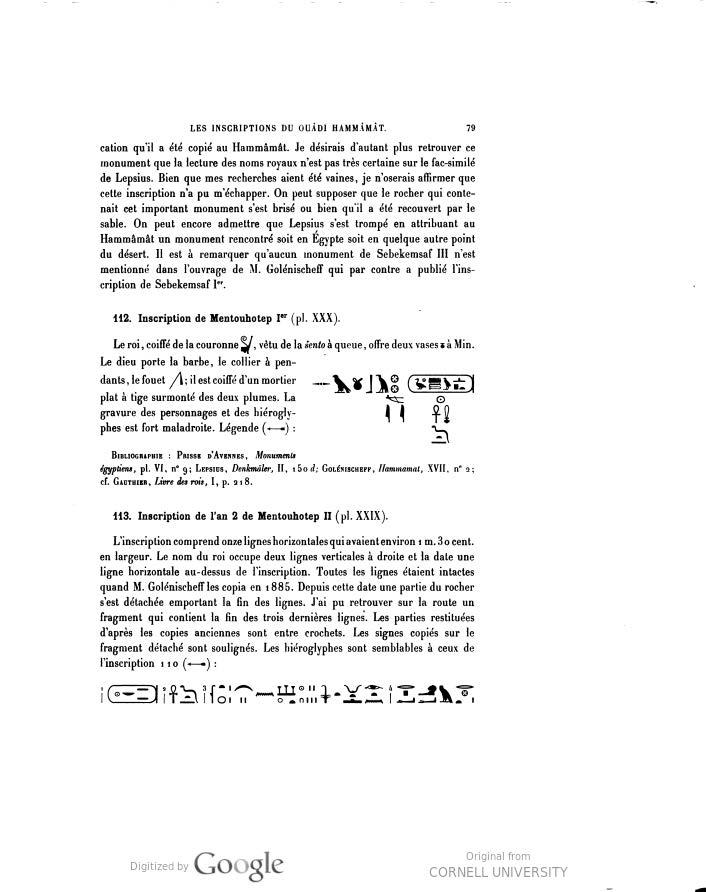circle: (401, 368, 482, 407), (97, 677, 172, 715)
